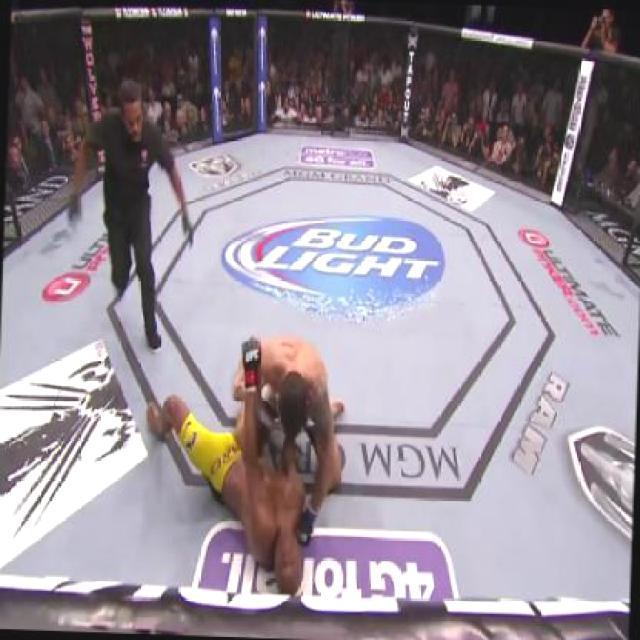fight: (215, 326, 352, 600)
